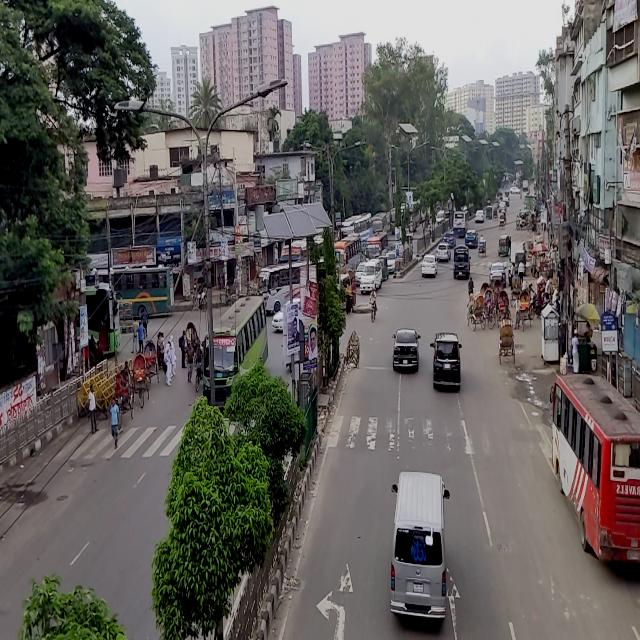black: (432, 332, 460, 387), (393, 328, 418, 372), (453, 247, 471, 278)
white: (390, 474, 444, 613), (421, 253, 436, 278), (436, 242, 451, 262)
